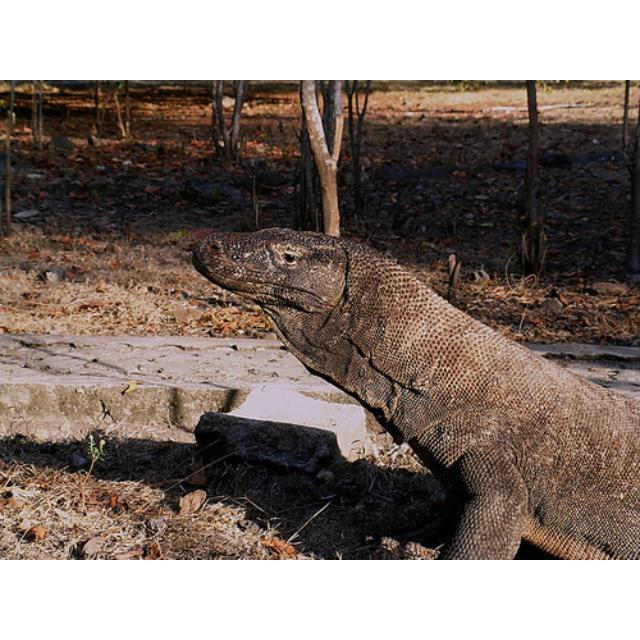KomodoDragon: (189, 223, 635, 558)
